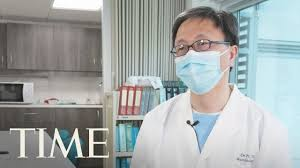surgical: (174, 49, 225, 96)
